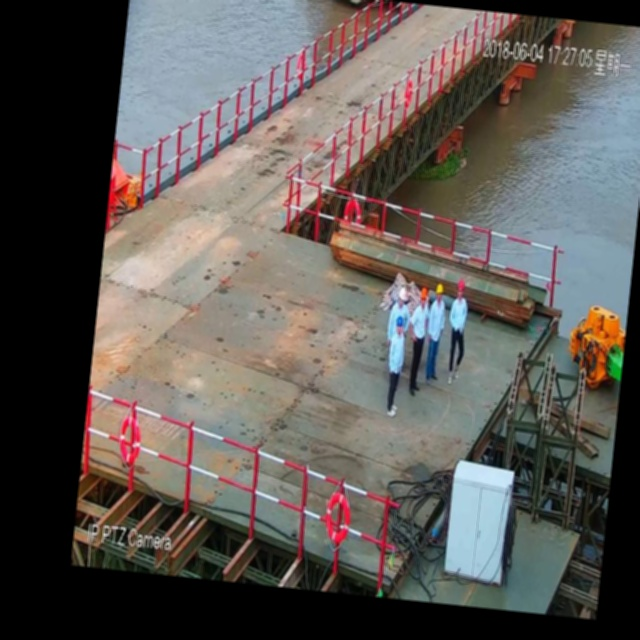Con_Casco: (395, 315, 404, 336), (398, 288, 407, 306), (420, 287, 428, 307), (457, 279, 465, 298), (435, 284, 444, 300)
